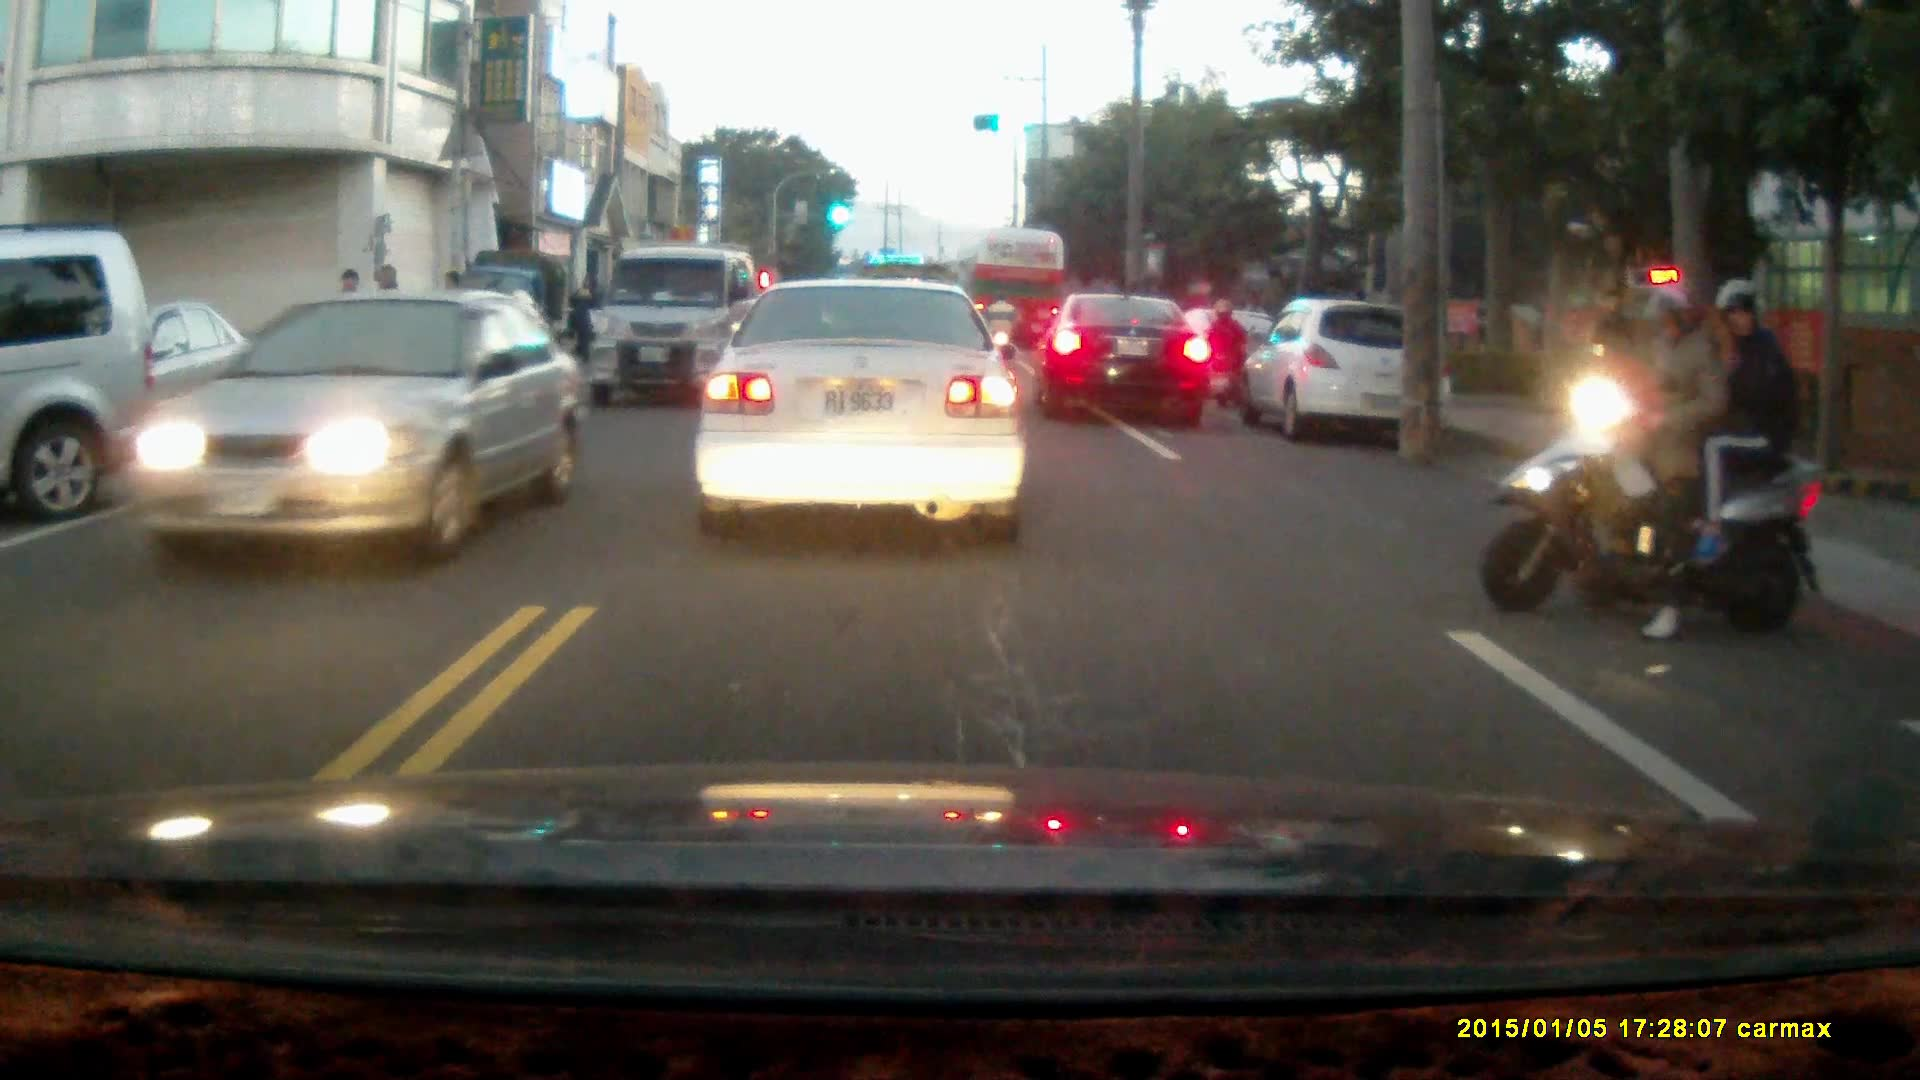pedestrian: (1587, 284, 1639, 408), (568, 273, 600, 362)
rider: (1484, 274, 1820, 646), (1202, 293, 1252, 407), (981, 288, 1020, 365)
vehicle: (128, 289, 572, 572), (692, 273, 1030, 545), (1, 226, 169, 521), (14, 298, 279, 464), (1243, 294, 1454, 440), (592, 243, 765, 406), (1035, 294, 1219, 427), (970, 224, 1072, 361)
